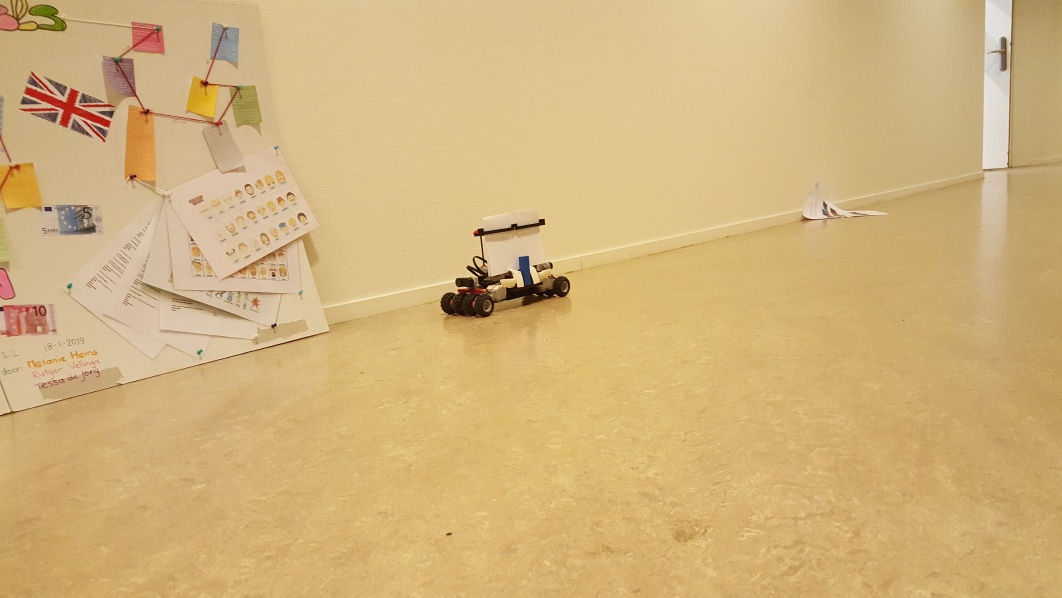car: (441, 207, 572, 317)
